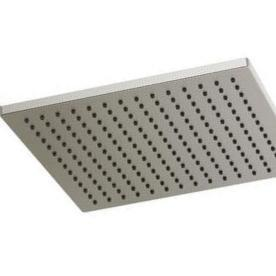Ducha: (0, 29, 275, 224)
